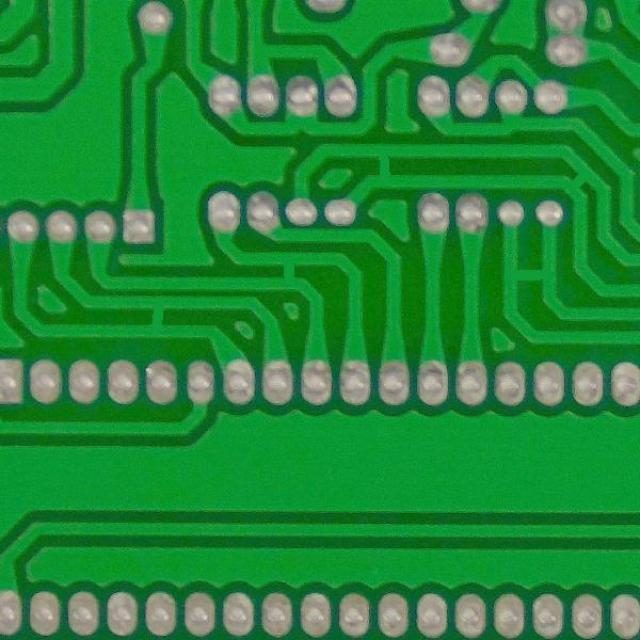Short_Circuit: (494, 255, 564, 294), (134, 289, 182, 344), (364, 138, 406, 194), (269, 248, 309, 296), (559, 161, 598, 200)
